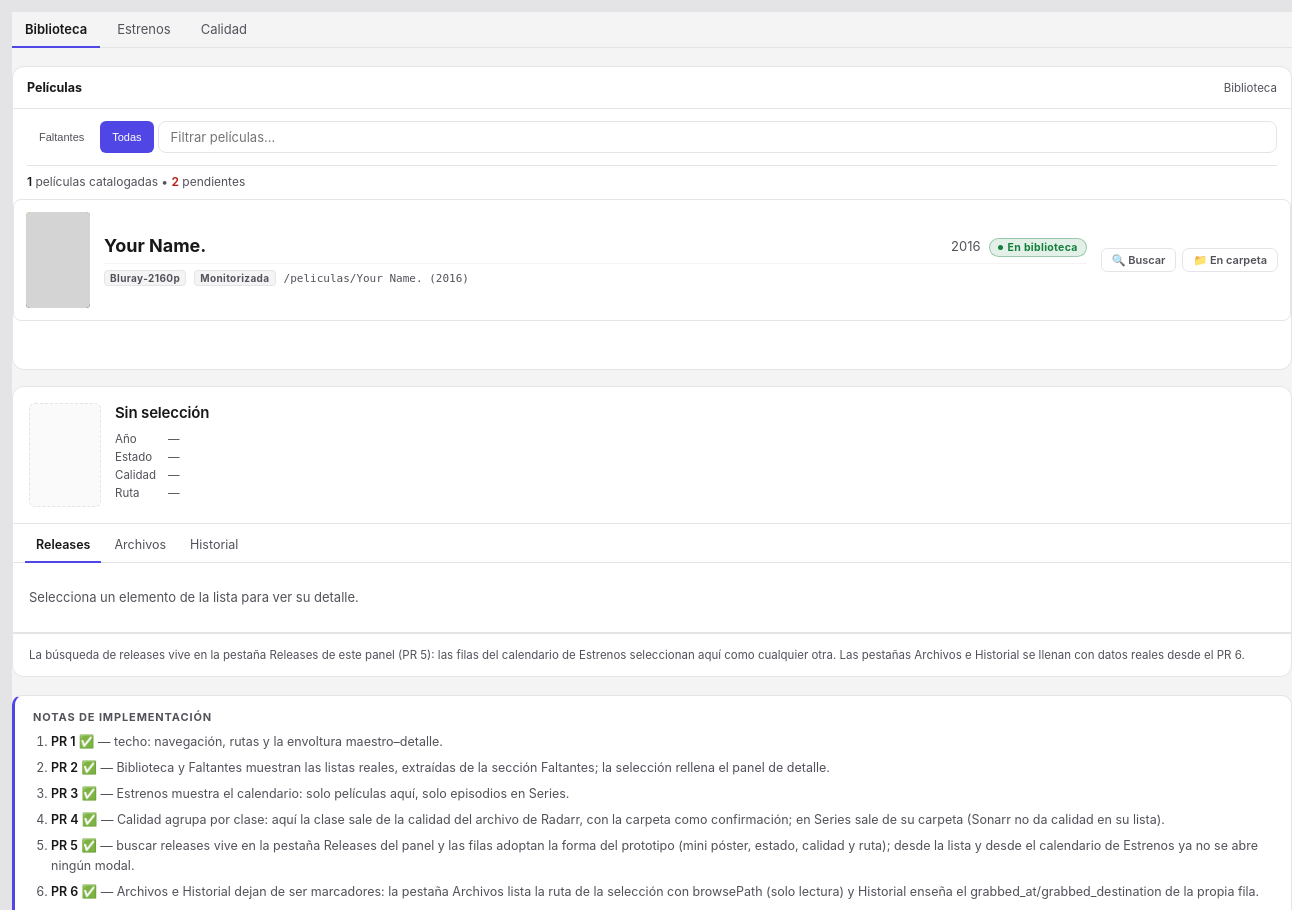
sections · the prototype rows › labels the missing row Falta and claims nothing the data cannot back
The width and height of the screenshot is (1292, 910).
Expected: the text "Your Name." is shown, [104,235,206,256]
Click the button "Faltantes" at coordinates (62, 137), box [27,121,96,153]
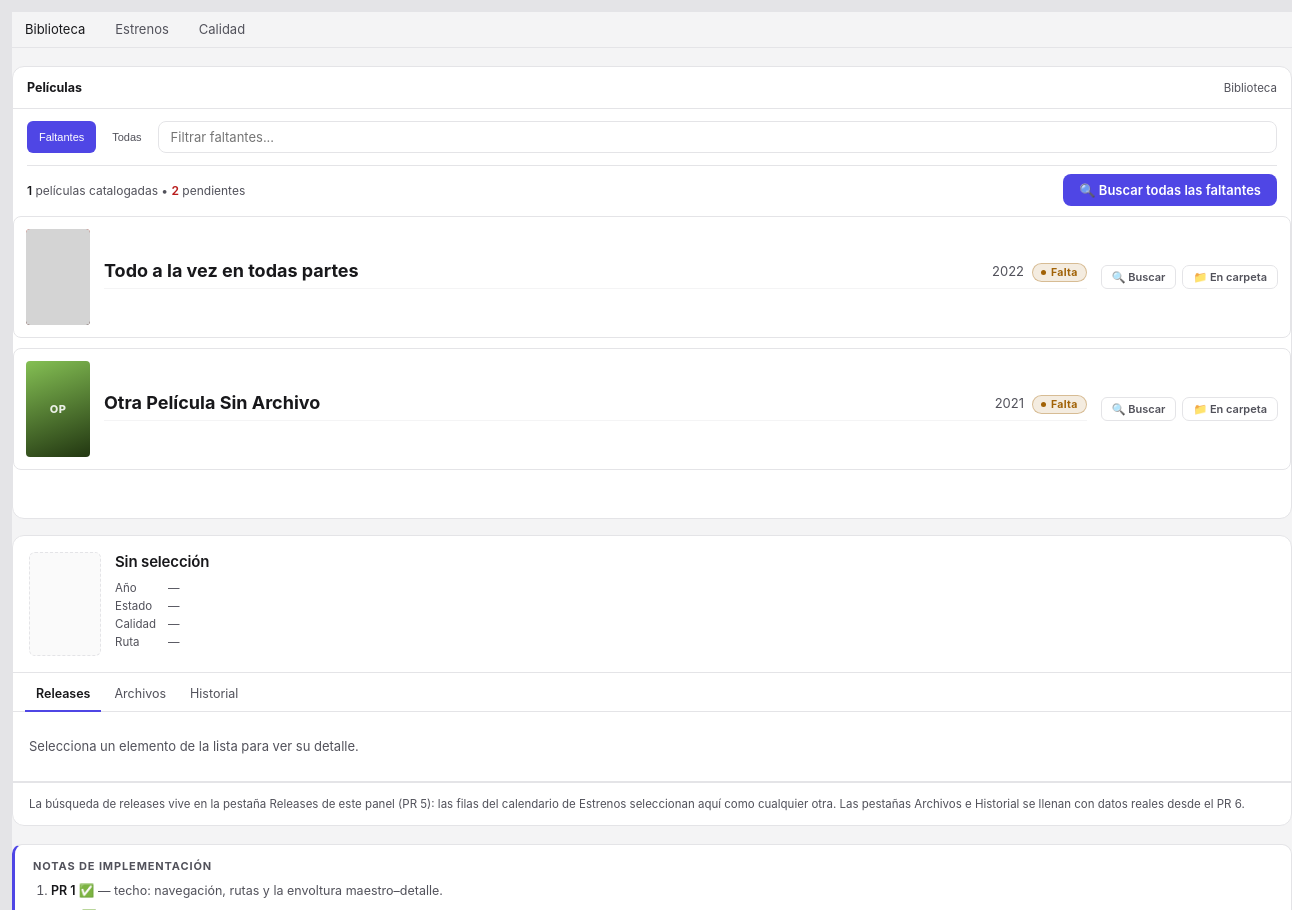
Now the text "Todo a la vez en todas partes" is shown, box [104,260,359,281]
Now the text with class "sec-pill" next to "2022" reads "Falta", box [1051,266,1078,279]
Now the text with class "sec-q-tag" is gone
